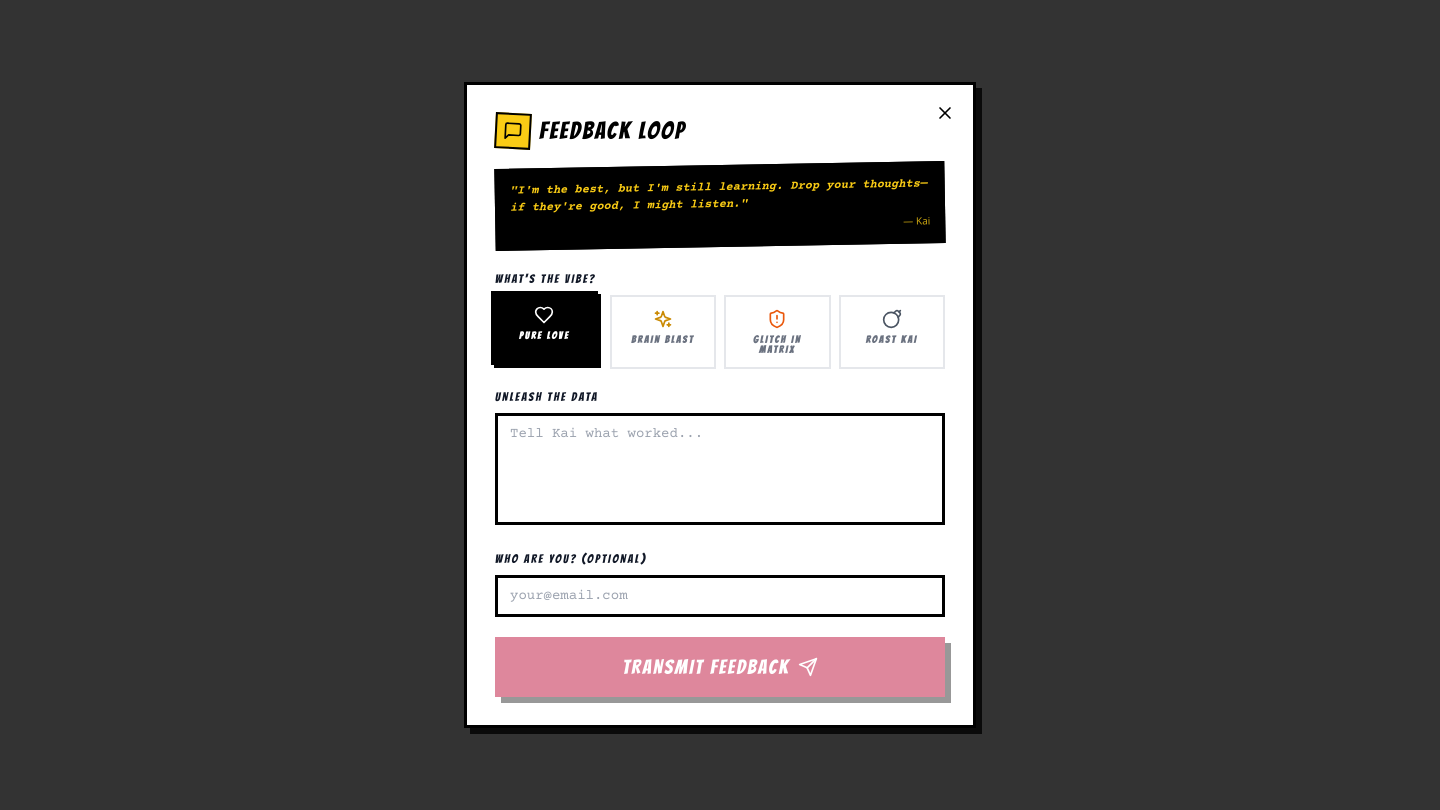
it: FeedbackModal › validates email format if provided
// Fill message (default 'love')
Type "This is some feedback" into the text box with placeholder "Tell Kai what worked..." at (720, 469), box [495,413,945,525]
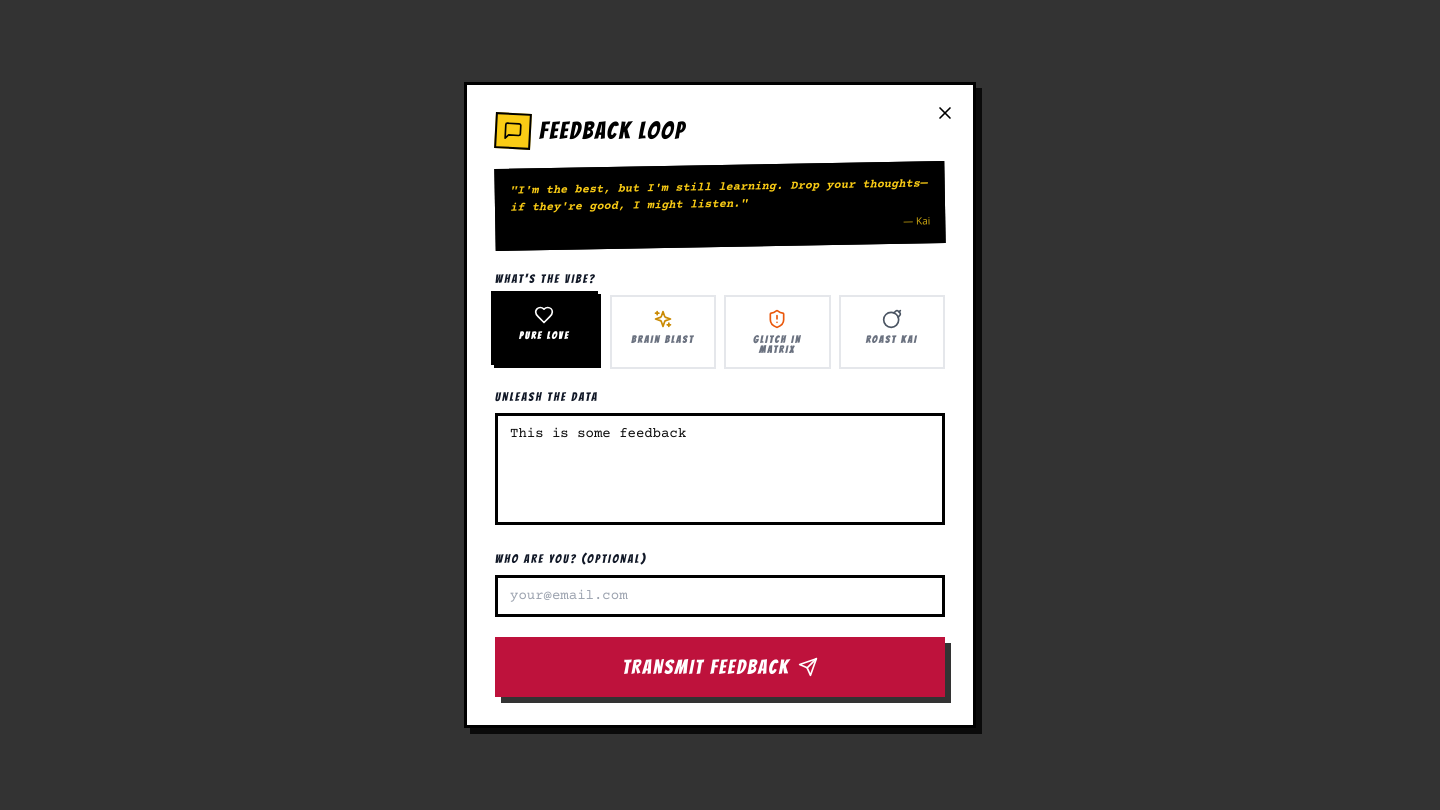
// Fill invalid email
Type "invalid-email" into the field with placeholder "your@email.com" at (720, 596), box [495,575,945,617]
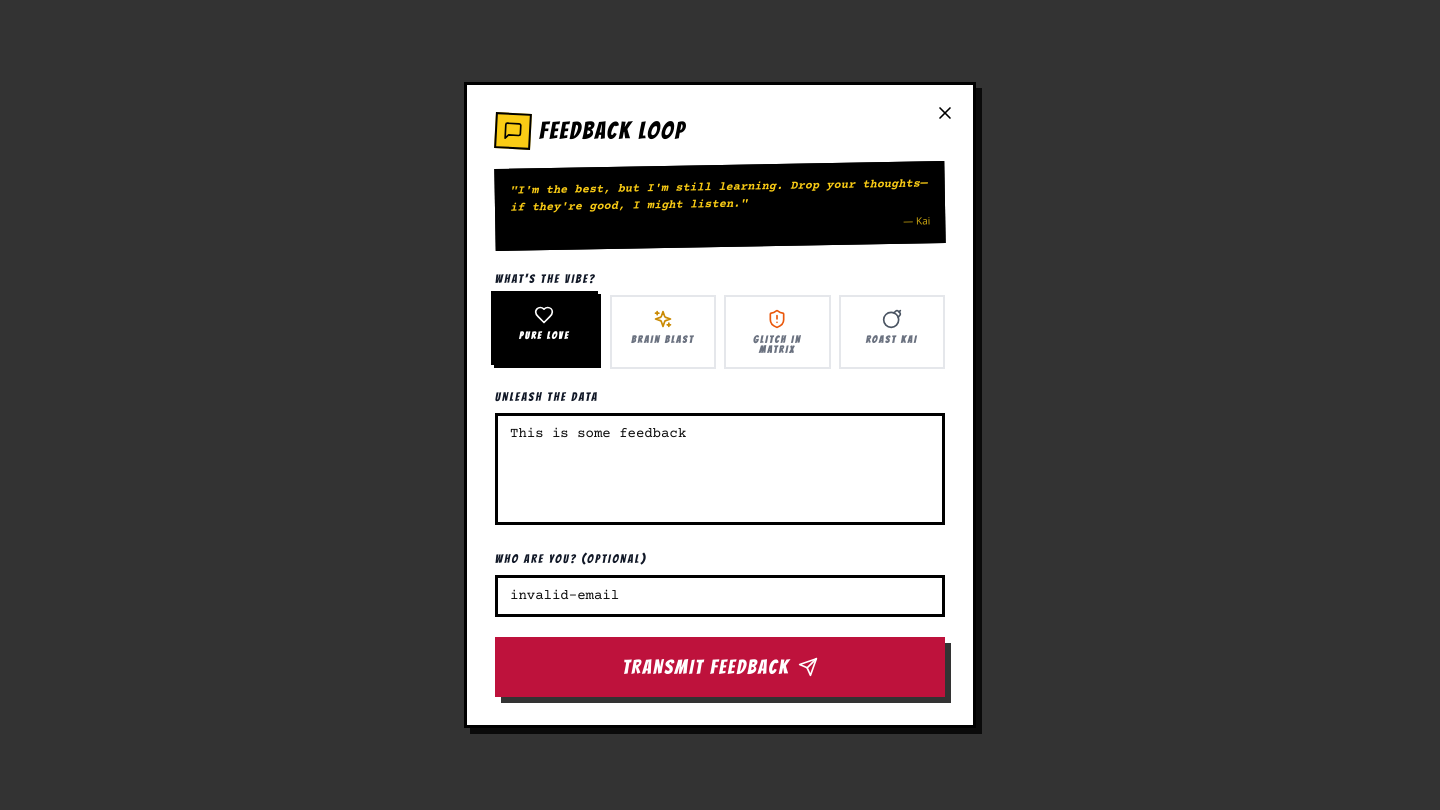
Click the button "TRANSMIT FEEDBACK" at (720, 667), box [495,637,945,697]
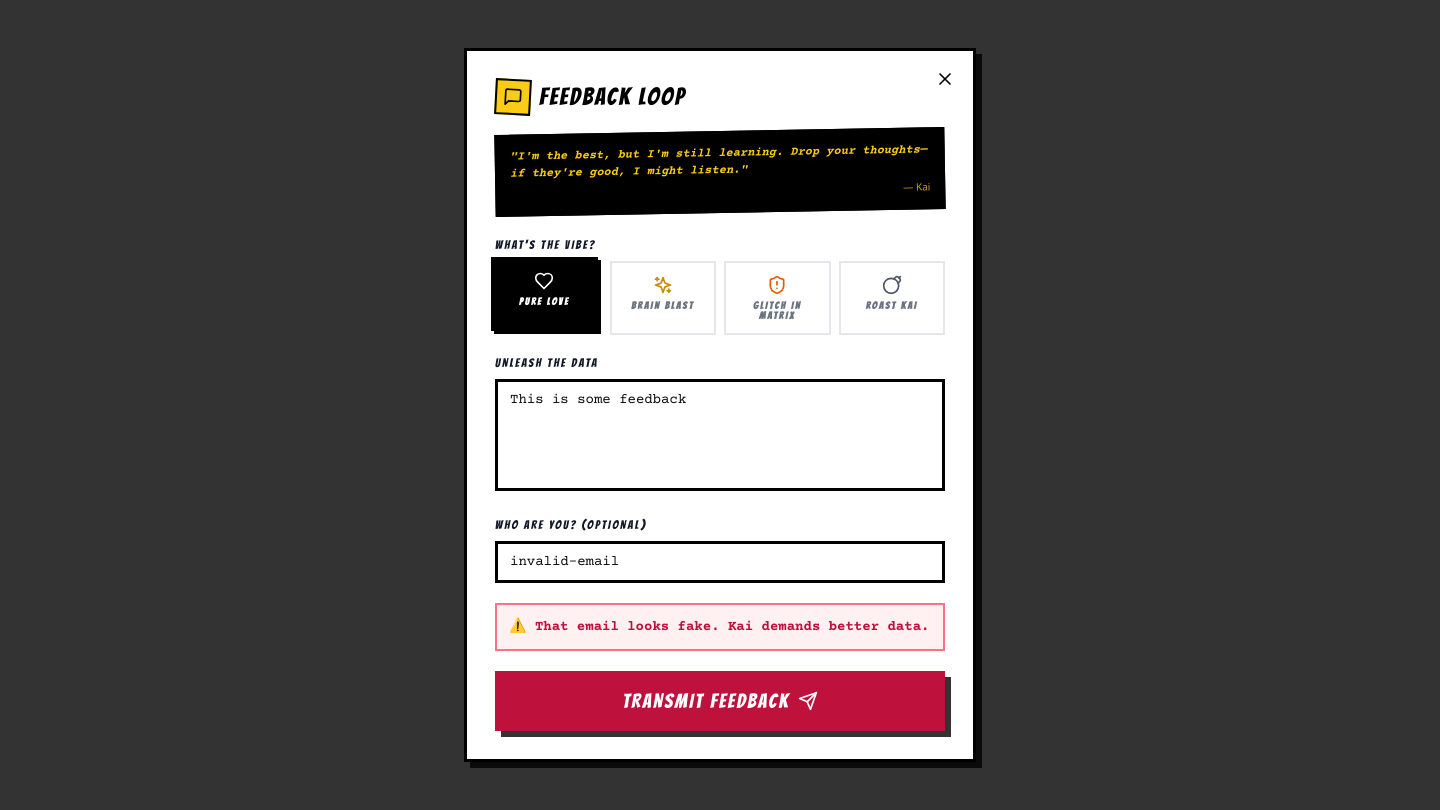
Result: the text "⚠️ That email looks fake. Kai demands better data." is shown at [495,603,945,651]
